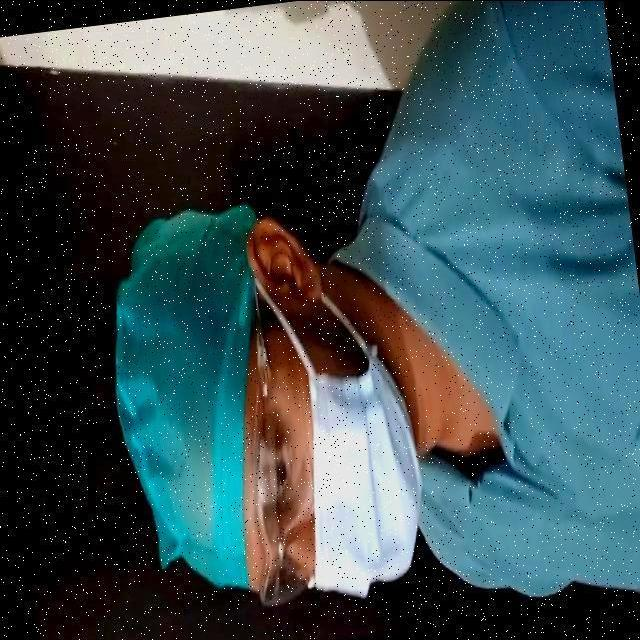gloves: (115, 227, 249, 607)
mask: (316, 379, 434, 591)
